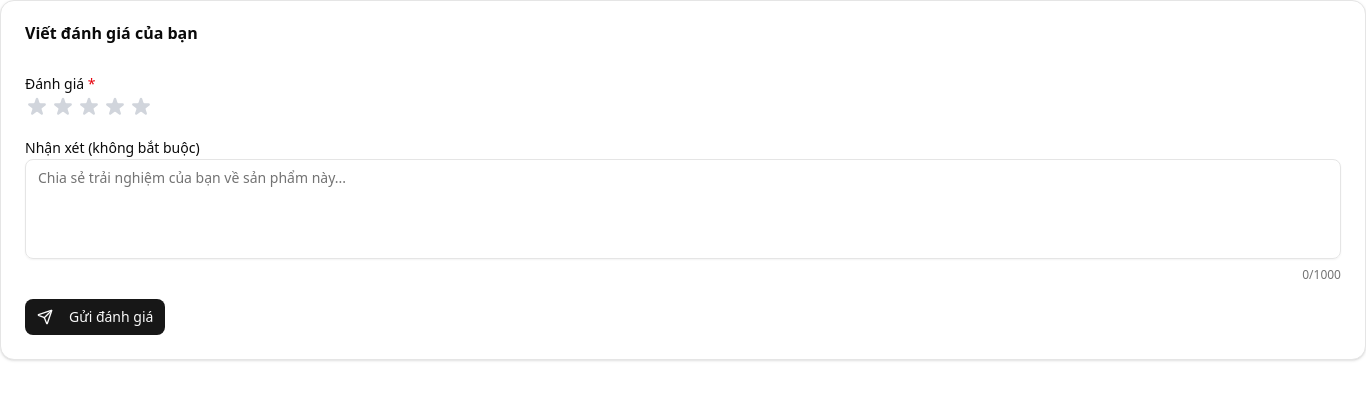
Test case: Wave 4B-2 G-E — S27: ReviewForm rating group › routes a submit failure to the comment textarea (S28)
The image size is (1366, 414).
In the text box labelled "Nhận xét (không bắt buộc)": (683, 209) 25,159 -> 1341,259, type "Tốt"
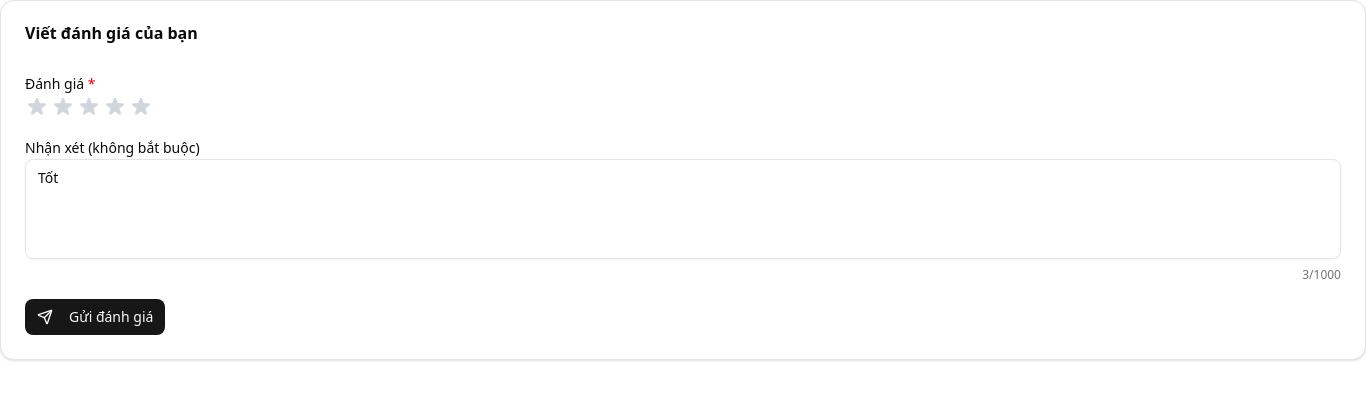
Click the radio button named "2 sao": (63, 107) 51,95 -> 75,119
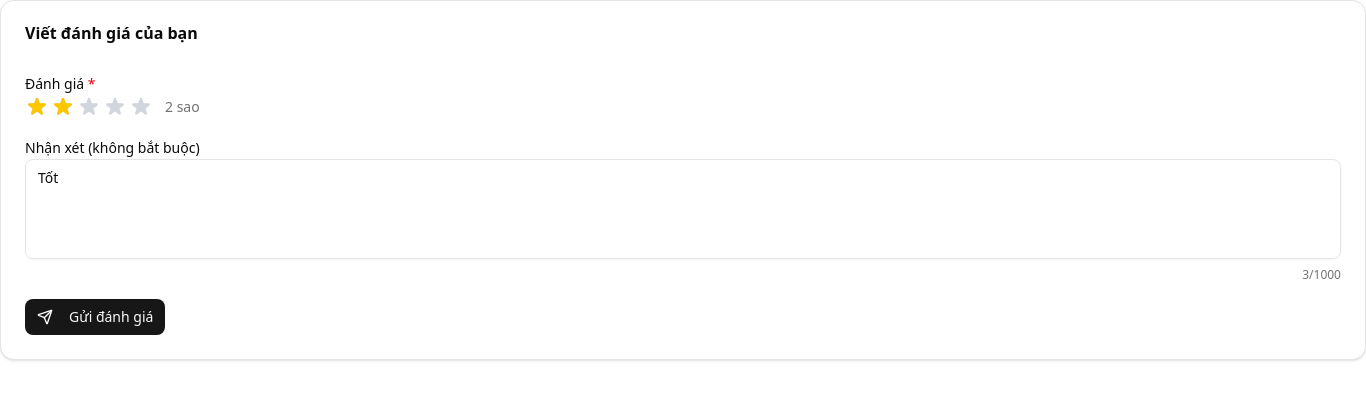
Click the button "Gửi đánh giá": (95, 317) 25,299 -> 165,335
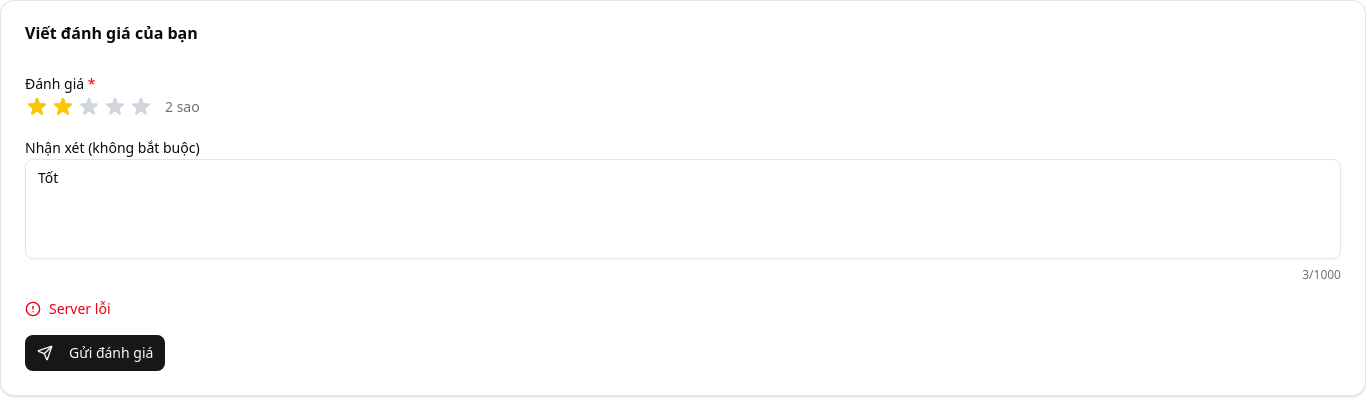
Expected: the message reads "Server lỗi", 49,299 -> 110,318
